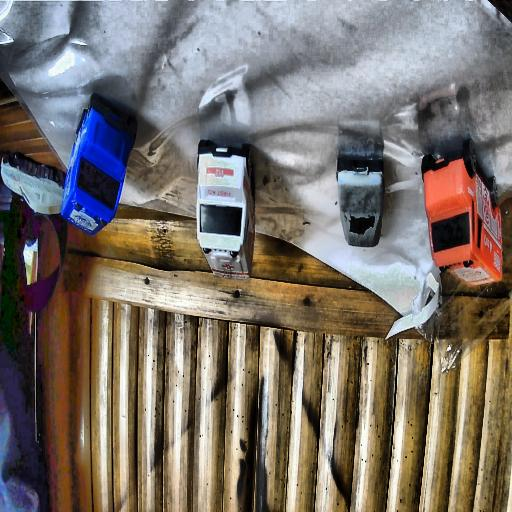ambulance: (194, 142, 256, 280)
fire_truck: (423, 148, 501, 284)
normal_car: (336, 126, 386, 249), (0, 152, 66, 214)
police car: (60, 93, 137, 236)
